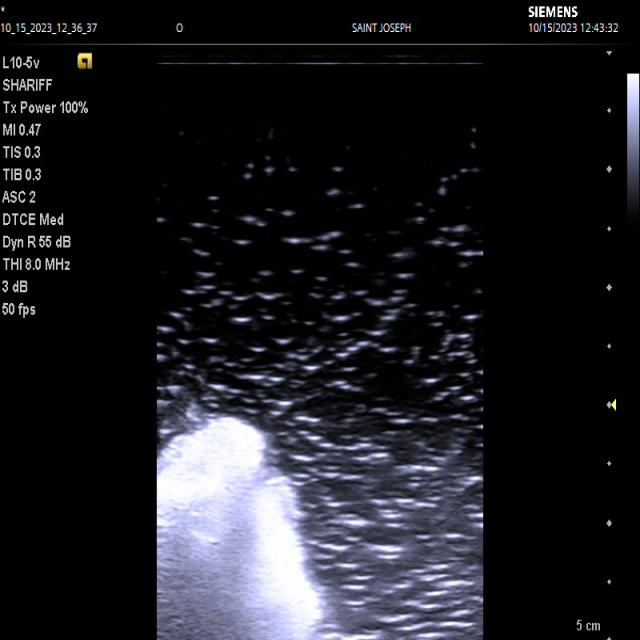tissue: (157, 417, 344, 640)
